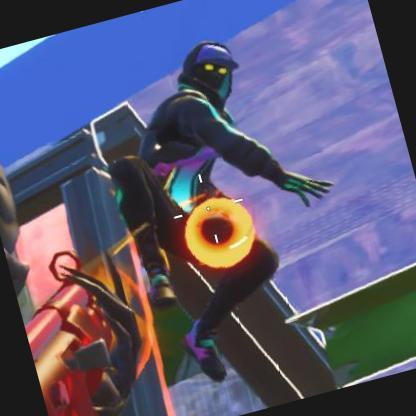person: (123, 40, 300, 331)
